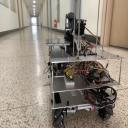cart: (48, 47, 125, 127)
